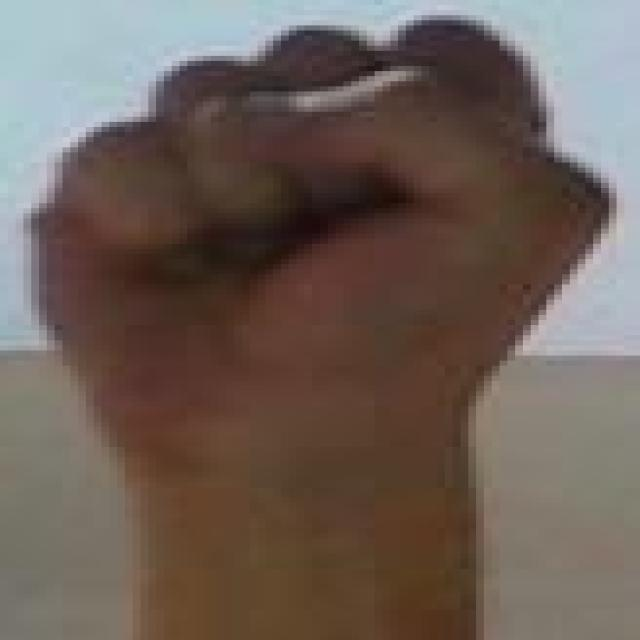S: (7, 1, 640, 410)
